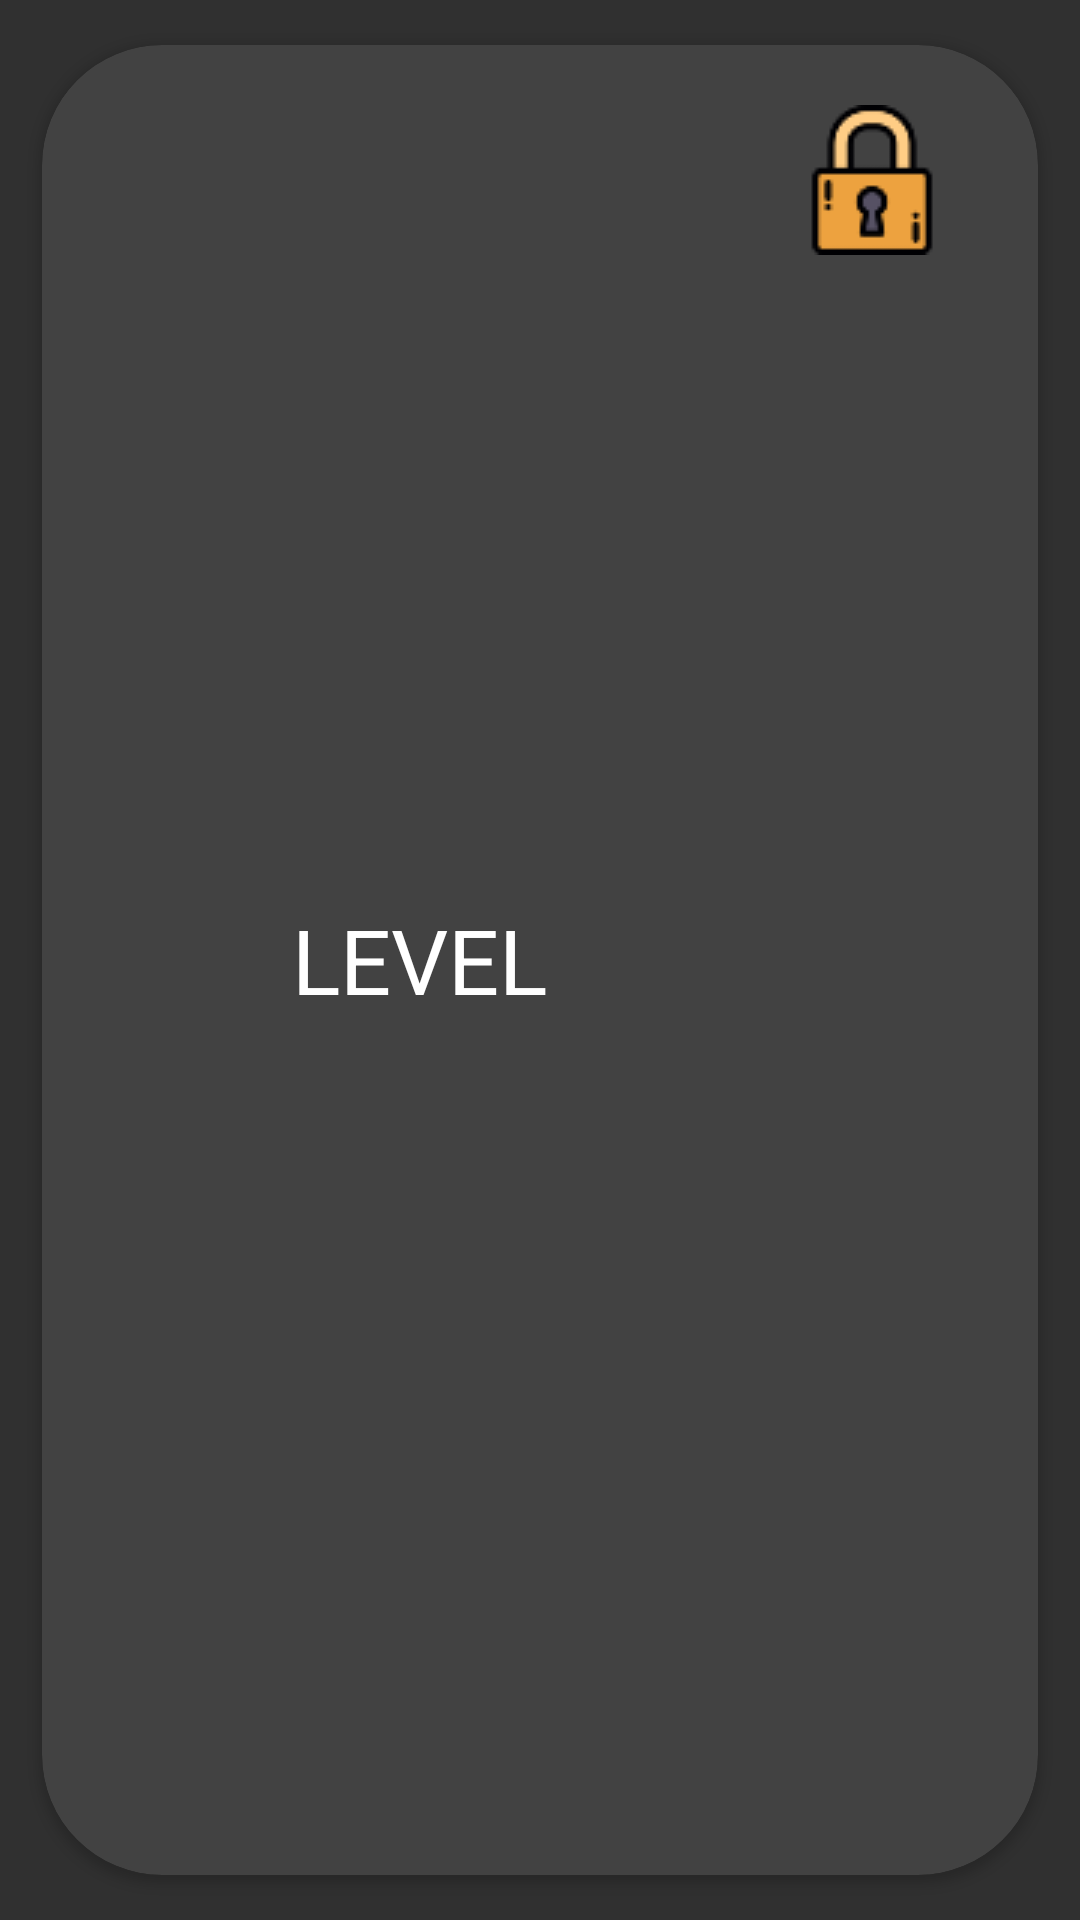

Screen size 1080*1920. Icon name, then its center in pixels as (x,y):
locked: (872,180)
